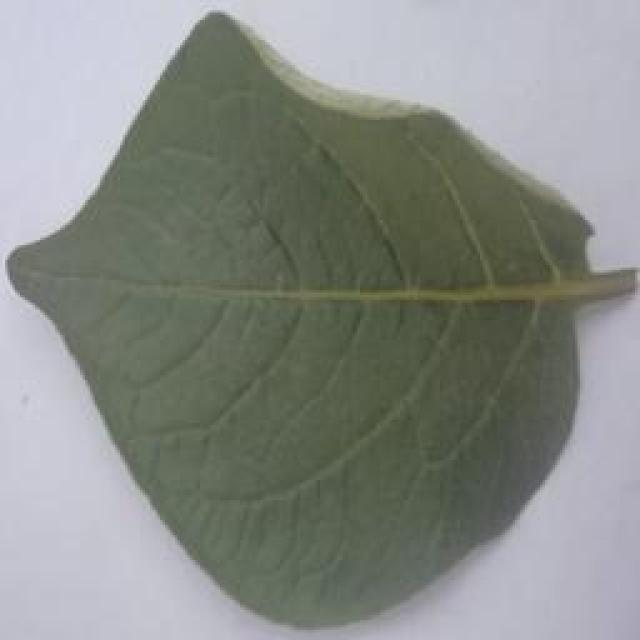Potato_Healthy: (6, 11, 627, 630)
